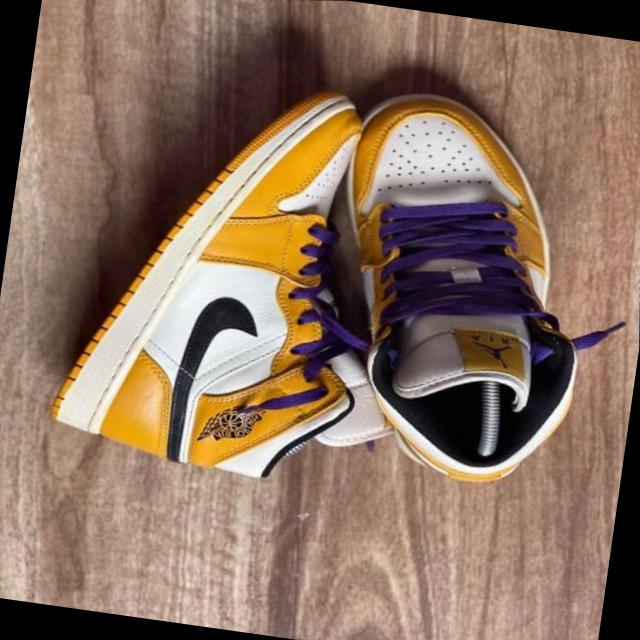nike_original_jordan: (1, 53, 412, 518), (294, 58, 640, 515)
